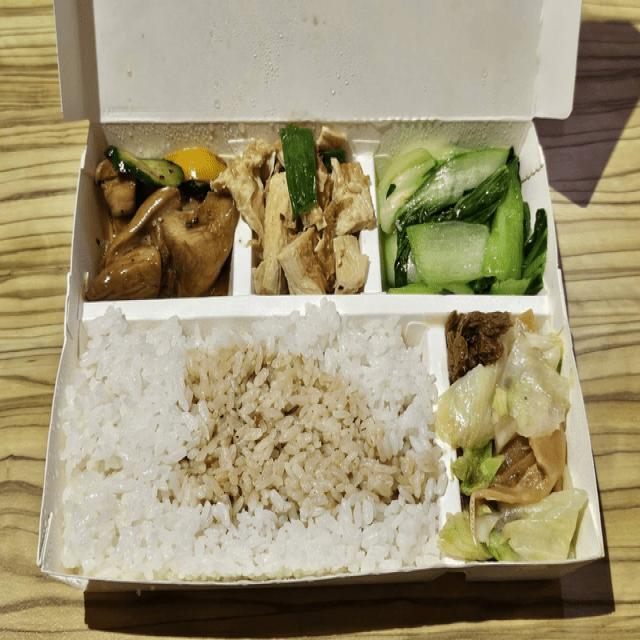Fushan-lettuce: (392, 158, 526, 274)
cabbage: (461, 347, 559, 558)
rice: (88, 332, 414, 551)
